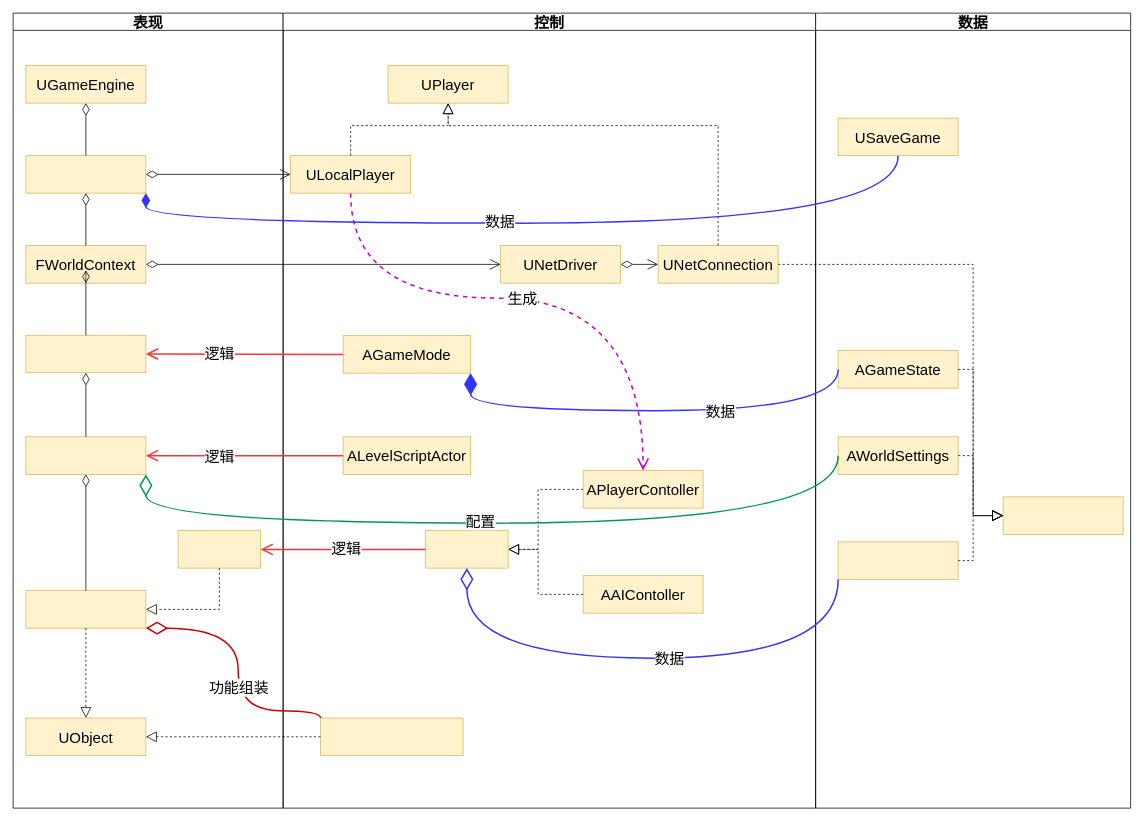
The diagram is 1144 pixels wide and 821 high, and some of its shapes have lost their labels. Each missing label, with the box of its shape:
AActor: (25, 590, 146, 628)
AController: (425, 530, 508, 568)
AInfo: (1002, 496, 1123, 534)
APawn: (177, 530, 261, 568)
APlayerState: (837, 541, 958, 579)
UActorComponenrt: (320, 717, 463, 756)
UGameInstance: (25, 155, 146, 193)
ULevel: (25, 436, 146, 474)
UWorld: (25, 334, 146, 373)
